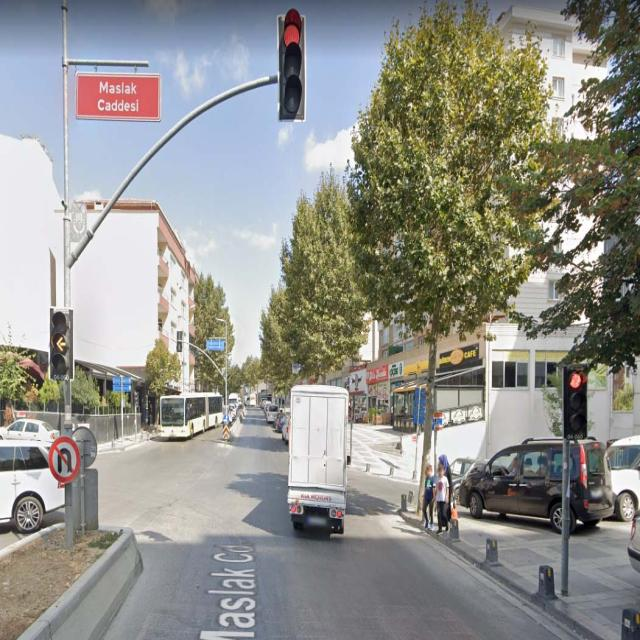kirmizi: (278, 10, 306, 120), (562, 365, 586, 439)
